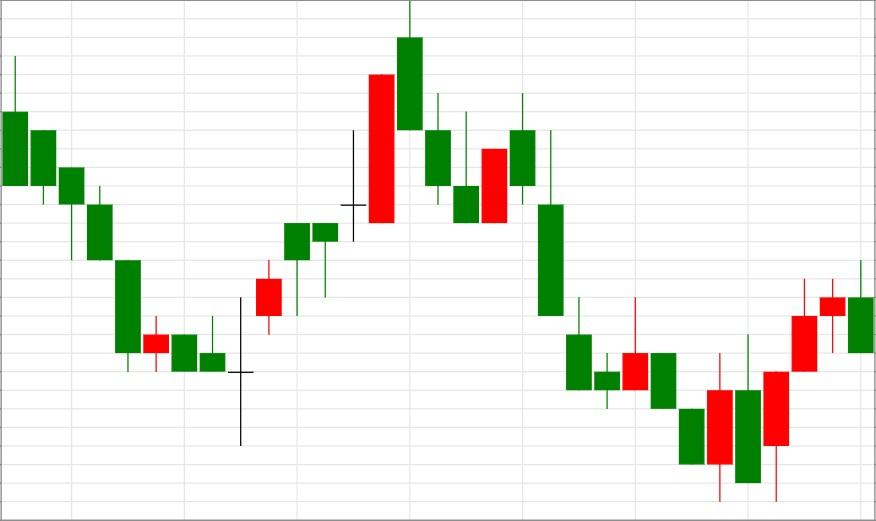three_black_crows_fall: (227, 0, 480, 445), (453, 91, 592, 392)
